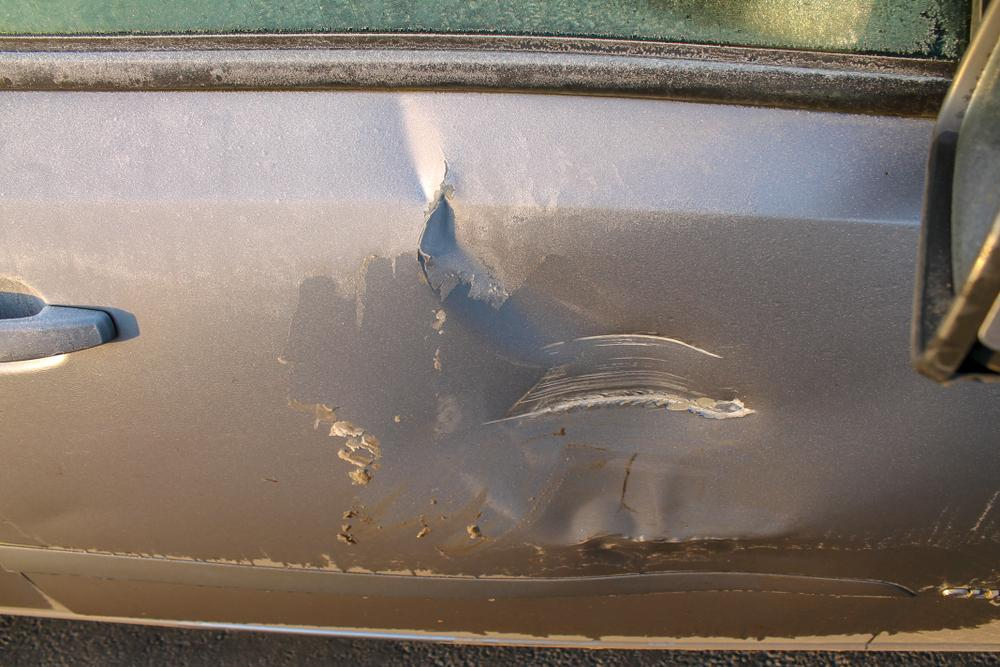dent: (374, 93, 809, 544)
scratch: (493, 323, 766, 428)
